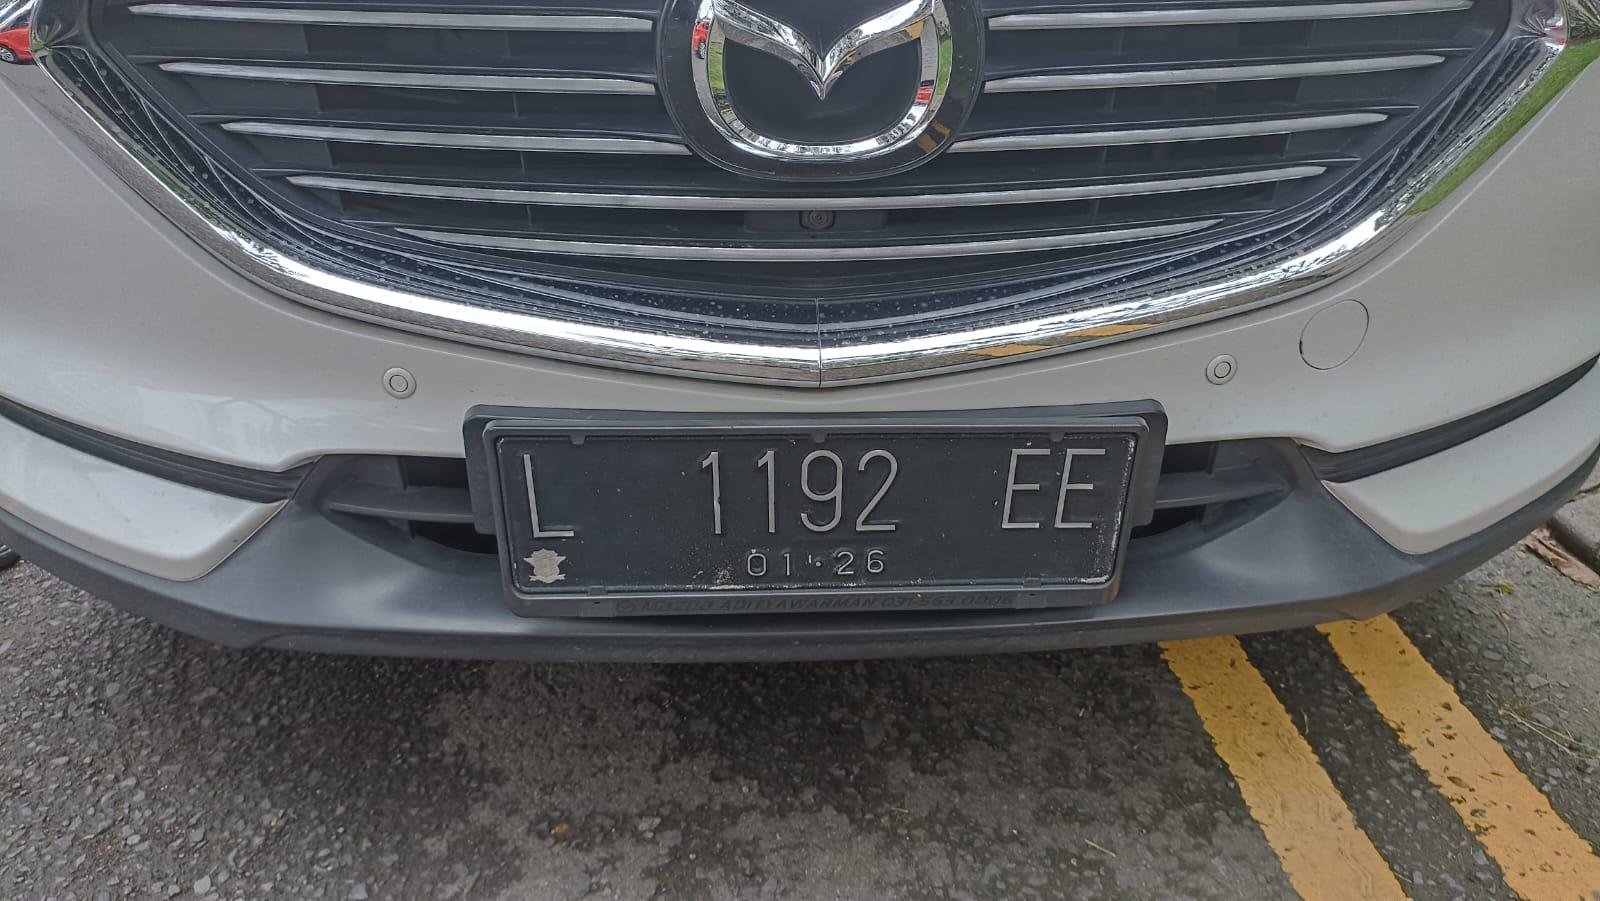plat: (466, 403, 1166, 619)
